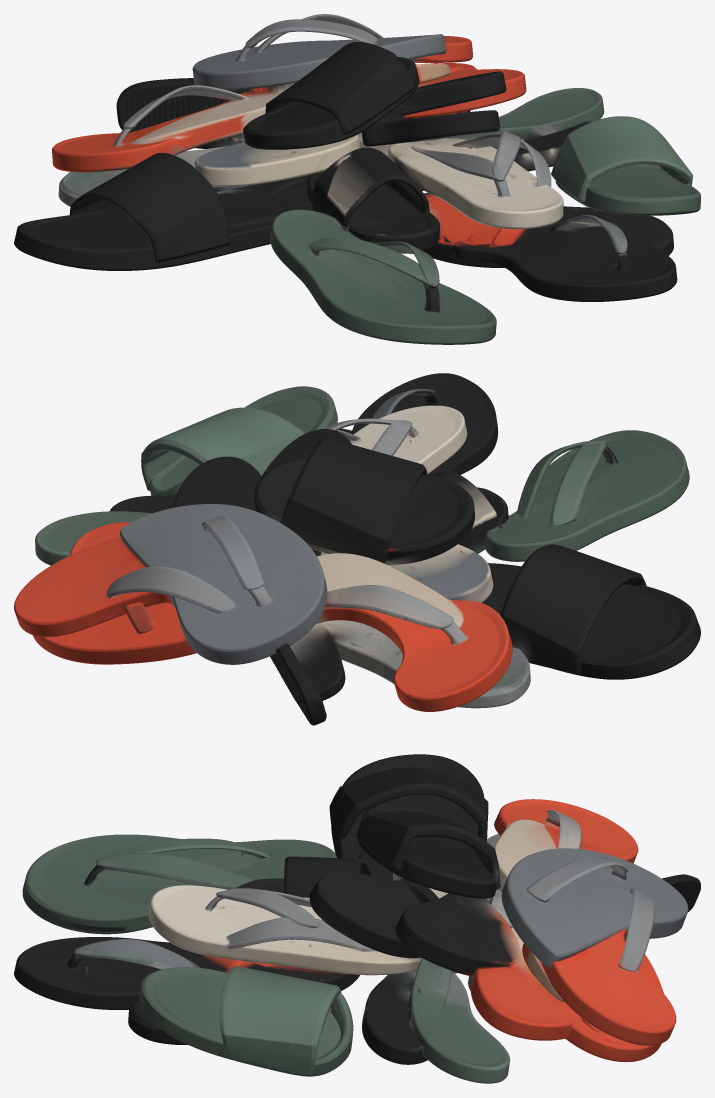
File: slippers_pile__hunyuan.glb
3 views of the same model, one above another, from view 1: azimuth 30°, elevation 25°; view 2: azimuth 150°, elevation 25°; view 3: azimuth 270°, elevation 25° (orthographic). The views are drawn at different scales.
Parts seen in each view (by area): view 1: material; view 2: material; view 3: material.
Boxes of the visible parts, bbox=[...] form: material: bbox=[14, 14, 700, 344]; material: bbox=[14, 373, 700, 725]; material: bbox=[14, 754, 700, 1083].
Size of the model in its own units: 1.02 by 0.2514 by 1.
Materials: 1 (1 with a texture image).
